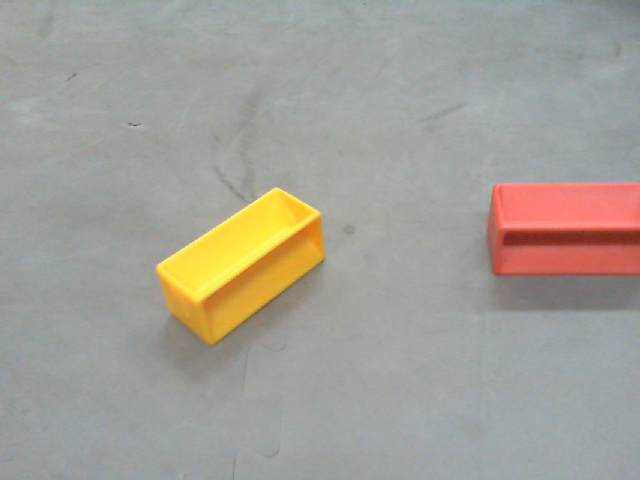RedSample: (484, 180, 640, 279)
YellowSample: (157, 183, 326, 344)
